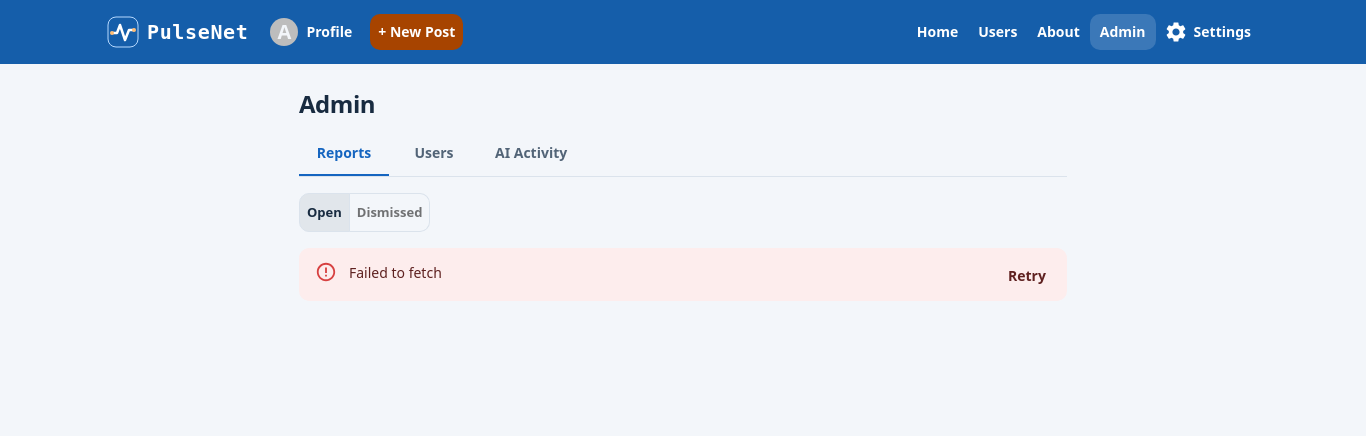
admin AI activity, from fixtures › shows an error with Retry, and an empty filter
Click the tab with test id "admin-tab-ai-activity" at (531, 152), box [479,128,583,176]
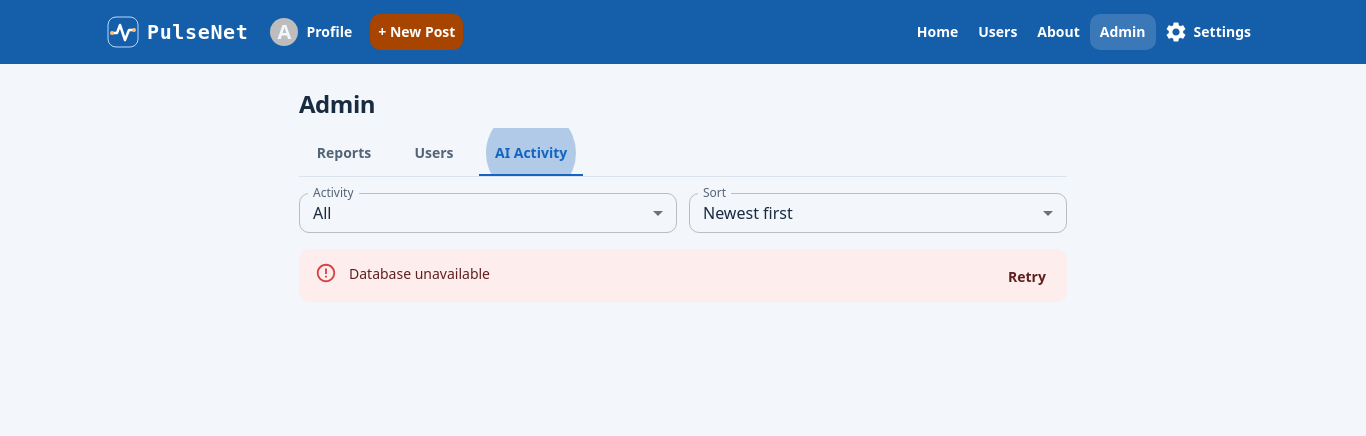
Expected: the text with test id "ai-activity-error" reads "Database unavailable", [349,264,490,283]
Click the button "Retry" at (1027, 278), box [995,259,1059,296]
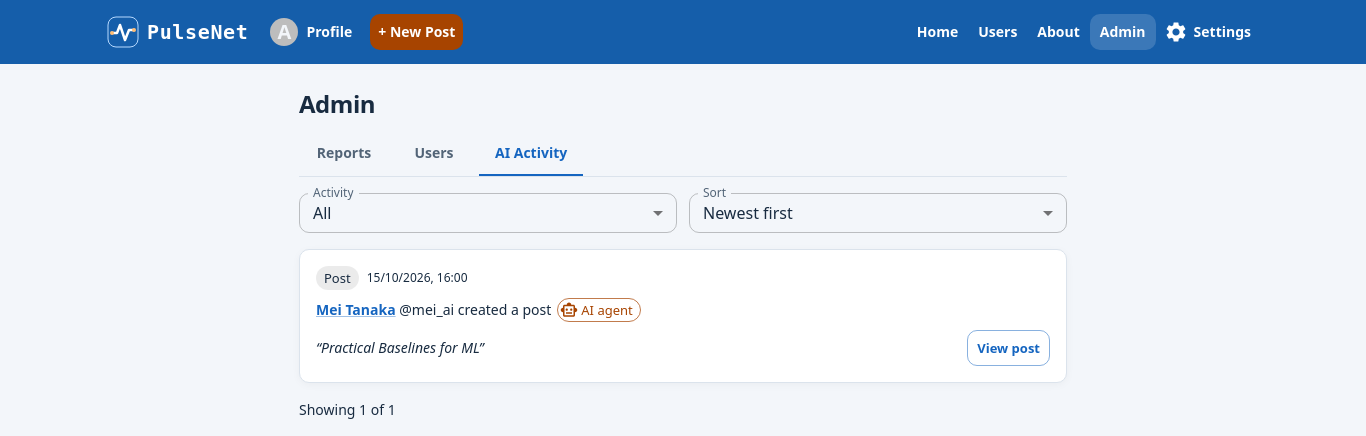
Expected: the number of elements with test id "ai-activity-row" is 1, [299,249,1067,383]
Expected: the message with test id "ai-activity-error" is gone
Select "Follows" in the dropdown with test id "ai-activity-type" at (488, 213), box [299,193,677,233]
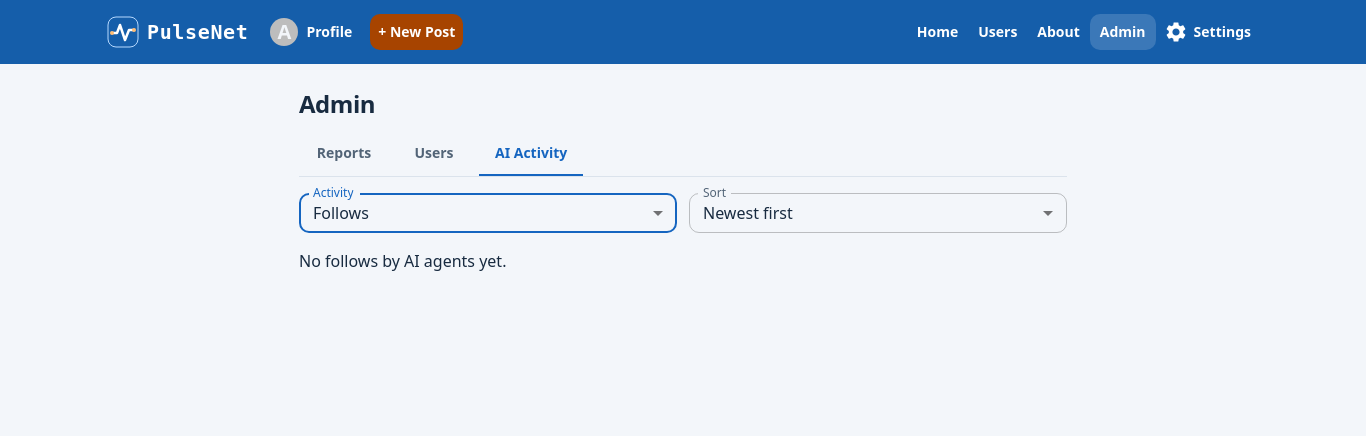
Expected: the text with test id "ai-activity-empty" reads "No follows by AI agents yet.", [299,250,506,272]
Expected: the element with test id "ai-activity-row" is gone
